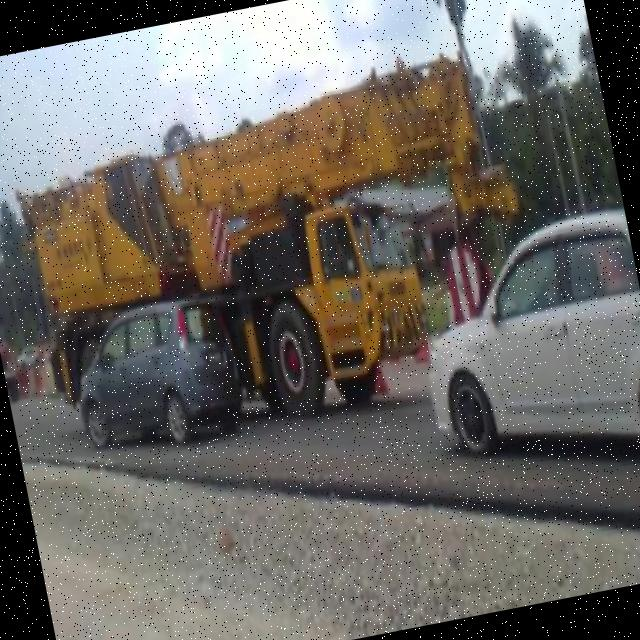Mobile Crane: (14, 46, 526, 424)
